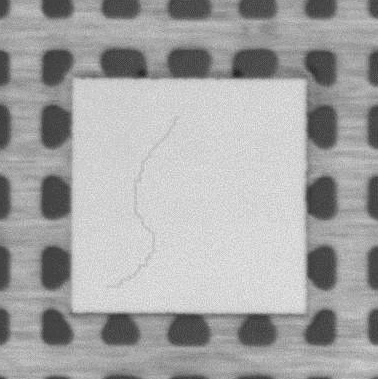DIE_CRACK: (105, 117, 179, 291)
